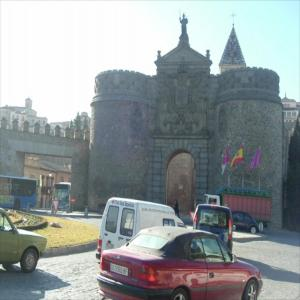Vehicle-registration-plate: (111, 264, 130, 277), (106, 245, 115, 251)
